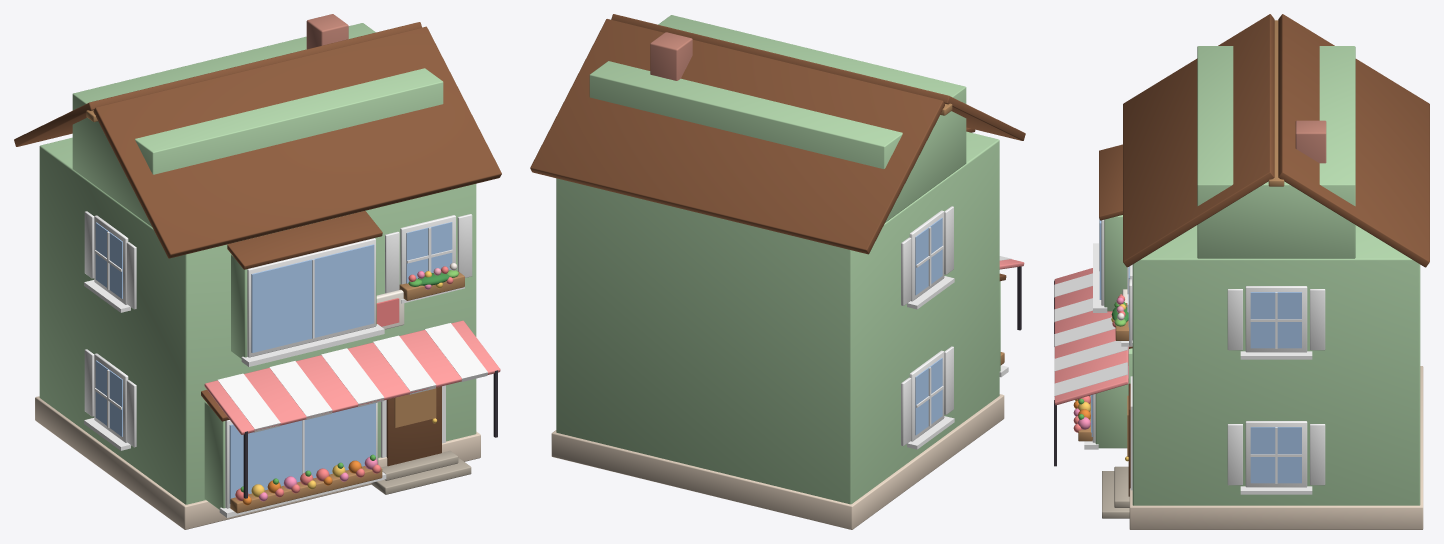
The model's file is house_green.glb.
3 renders of one model, left to right at view 1: azimuth 30°, elevation 25°; view 2: azimuth 150°, elevation 25°; view 3: azimuth 270°, elevation 25°, orthographic. The views are drawn at different scales.
Visible parts, largest first — view 1: house_green; view 2: house_green; view 3: house_green.
Boxes of the visible parts, box(x1,y1,x2,y2) form: house_green: box(14, 14, 501, 529); house_green: box(530, 14, 1025, 529); house_green: box(1054, 14, 1429, 529).
Size of the model in its own units: 7.4 by 8.05 by 7.32.
